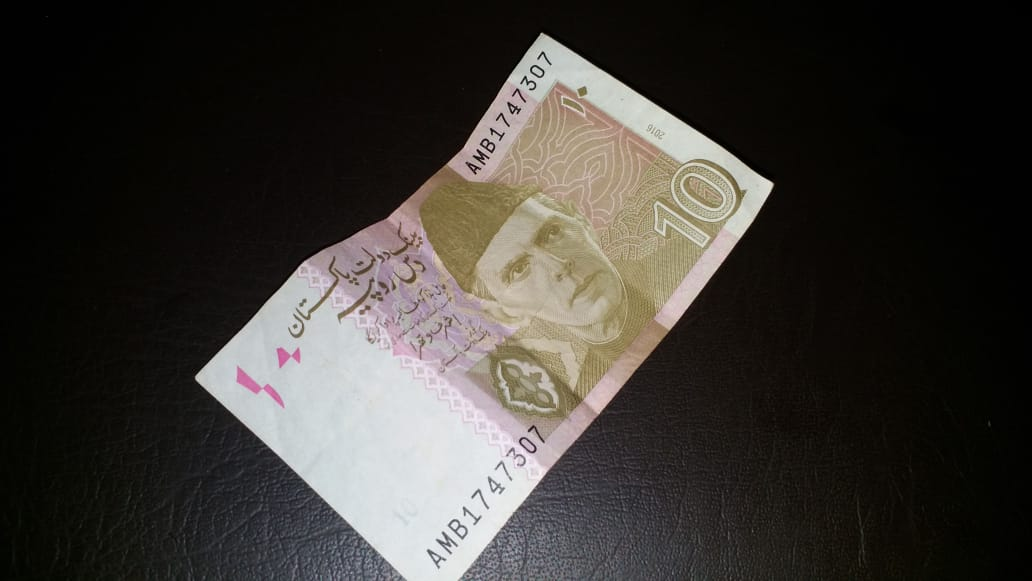10 rupee: (198, 26, 770, 580)
